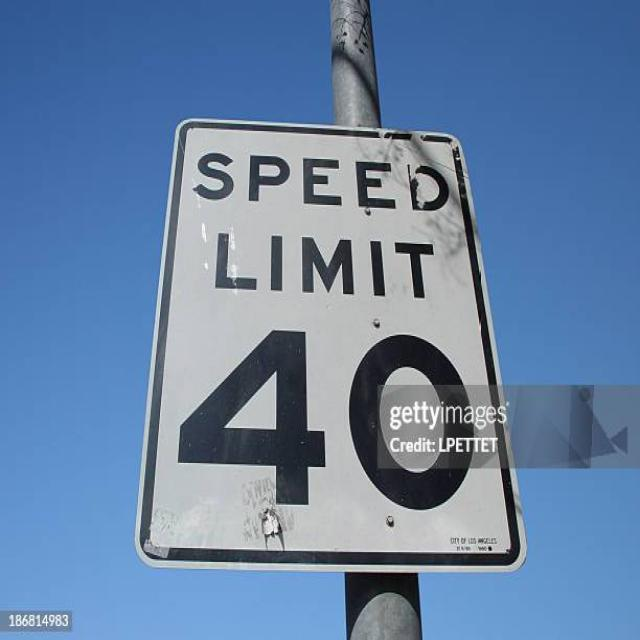speedLimit40: (124, 105, 539, 584)
